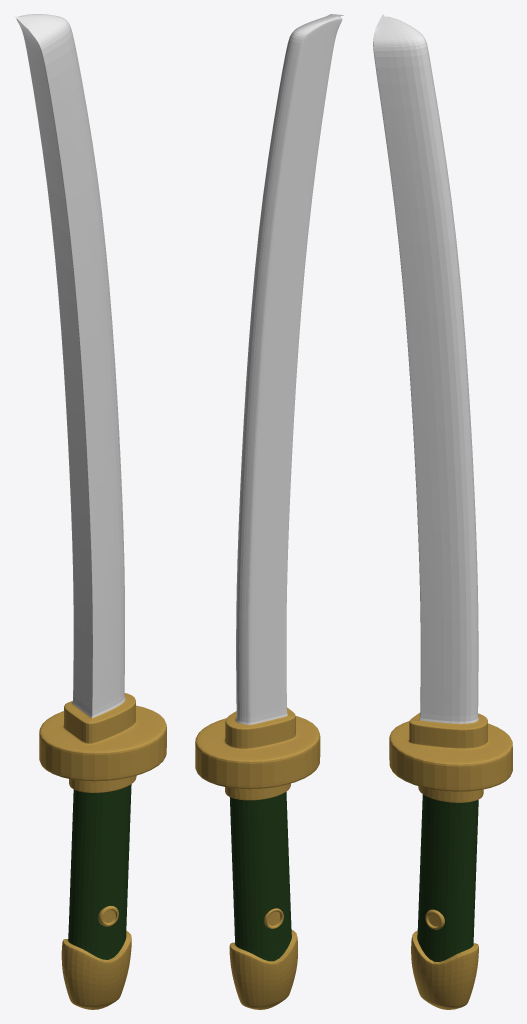
The model's file is Hwando.fbx.
3 views of the same model, side by side, from view 1: azimuth 30°, elevation 25°; view 2: azimuth 210°, elevation 25°; view 3: azimuth 330°, elevation 25° (orthographic). The views are drawn at different scales.
Parts seen in each view (by area): view 1: Hwando L Final; view 2: Hwando L Final; view 3: Hwando L Final.
Boxes of the visible parts, left/top/right/bottom form: Hwando L Final: left=14, top=14, right=166, bottom=1009; Hwando L Final: left=195, top=14, right=343, bottom=1009; Hwando L Final: left=373, top=14, right=512, bottom=1009.
Bounding box in the file's own units: 380 × 2658 × 275.
